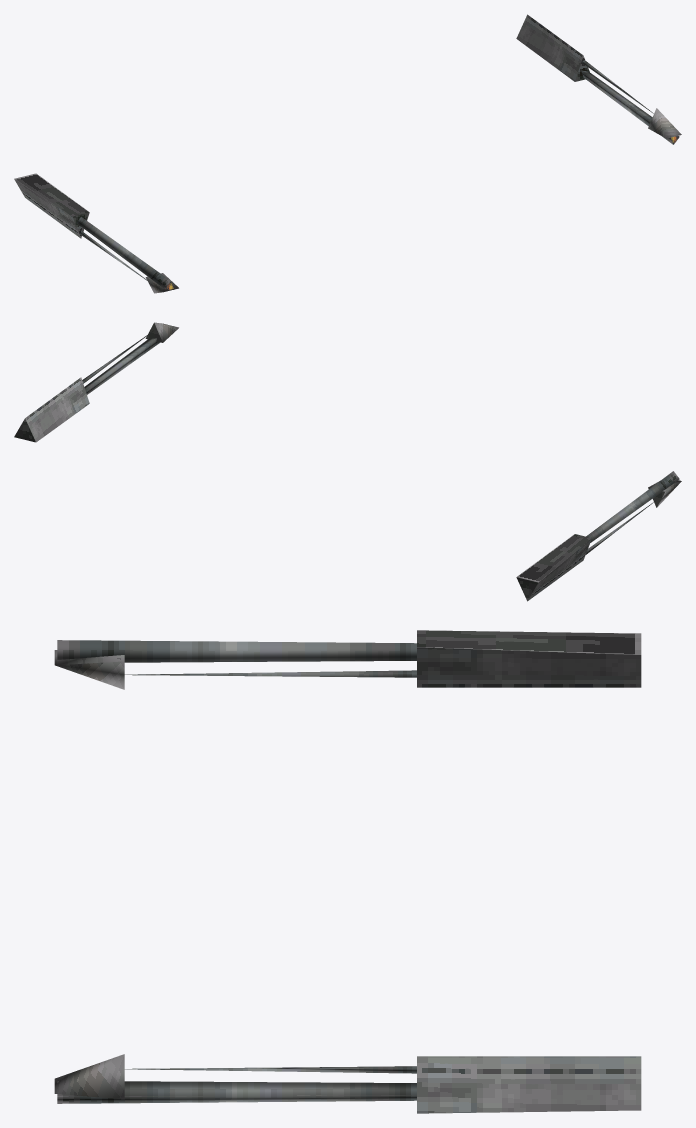
The model's file is xwing_weapon1_neg_s06_l3.fbx.
The picture shows the model from 3 angles, top to bottom: view 1: azimuth 30°, elevation 25°; view 2: azimuth 150°, elevation 25°; view 3: azimuth 270°, elevation 25°; orthographic projection. The views are drawn at different scales.
Visible parts, largest first — view 1: mesh_node; view 2: mesh_node; view 3: mesh_node.
Part boxes in pixels (x1=…): mesh_node: x1=14, y1=14, x2=681, y2=293; mesh_node: x1=14, y1=322, x2=681, y2=601; mesh_node: x1=54, y1=630, x2=641, y2=1113.
Bounding box in the file's own units: 12.87 × 1.48 × 6.24.
